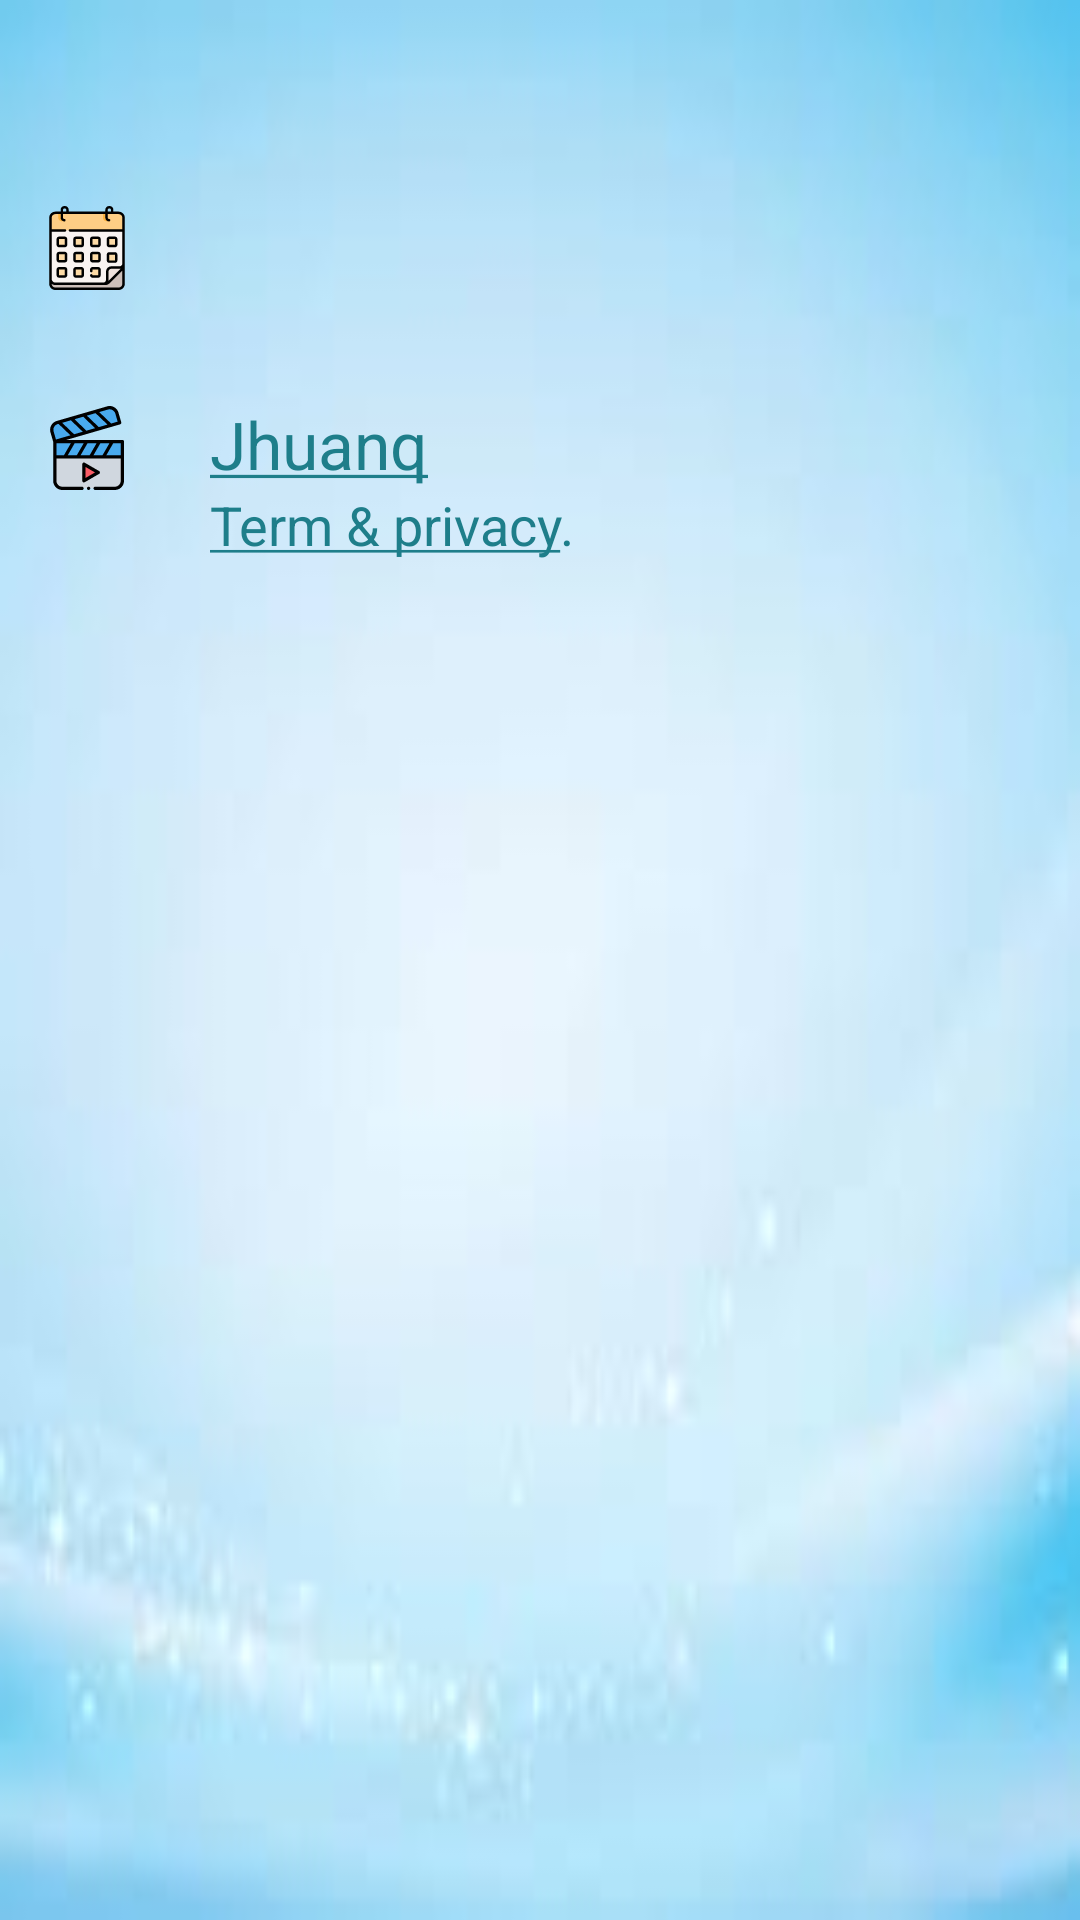

Icon click points for this 1080 x 1920 phone screenshot, format (x,y):
calendar: (87,248)
video: (87,448)
